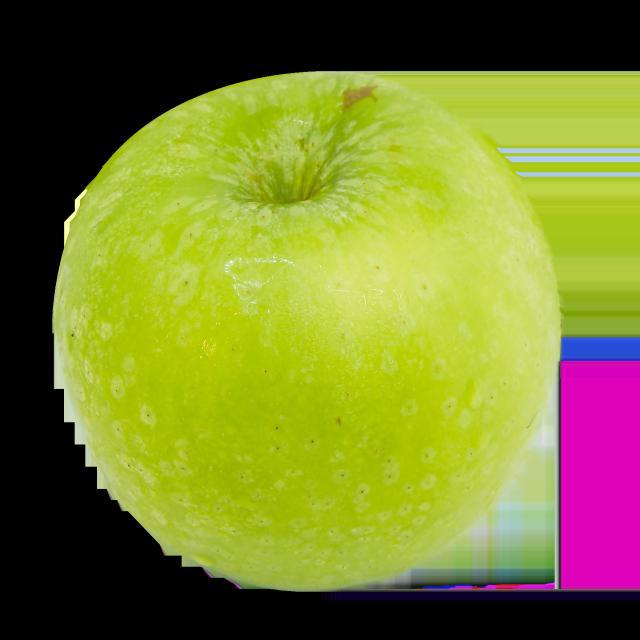Green Apple: (52, 70, 563, 593)
